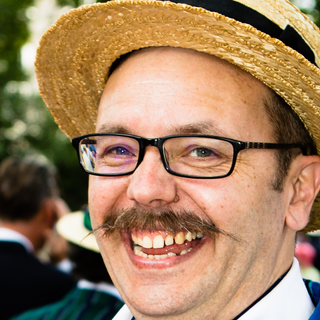eye: (173, 142, 227, 167), (97, 141, 140, 166)
